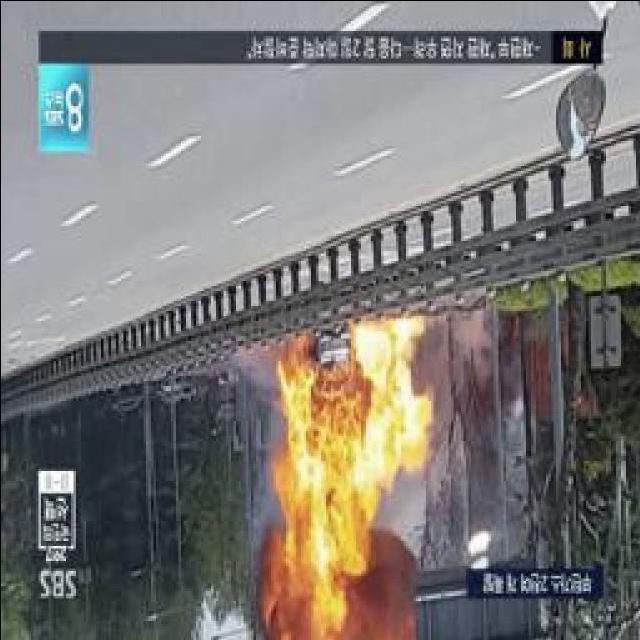Fire: (282, 326, 422, 545), (282, 548, 371, 626)
